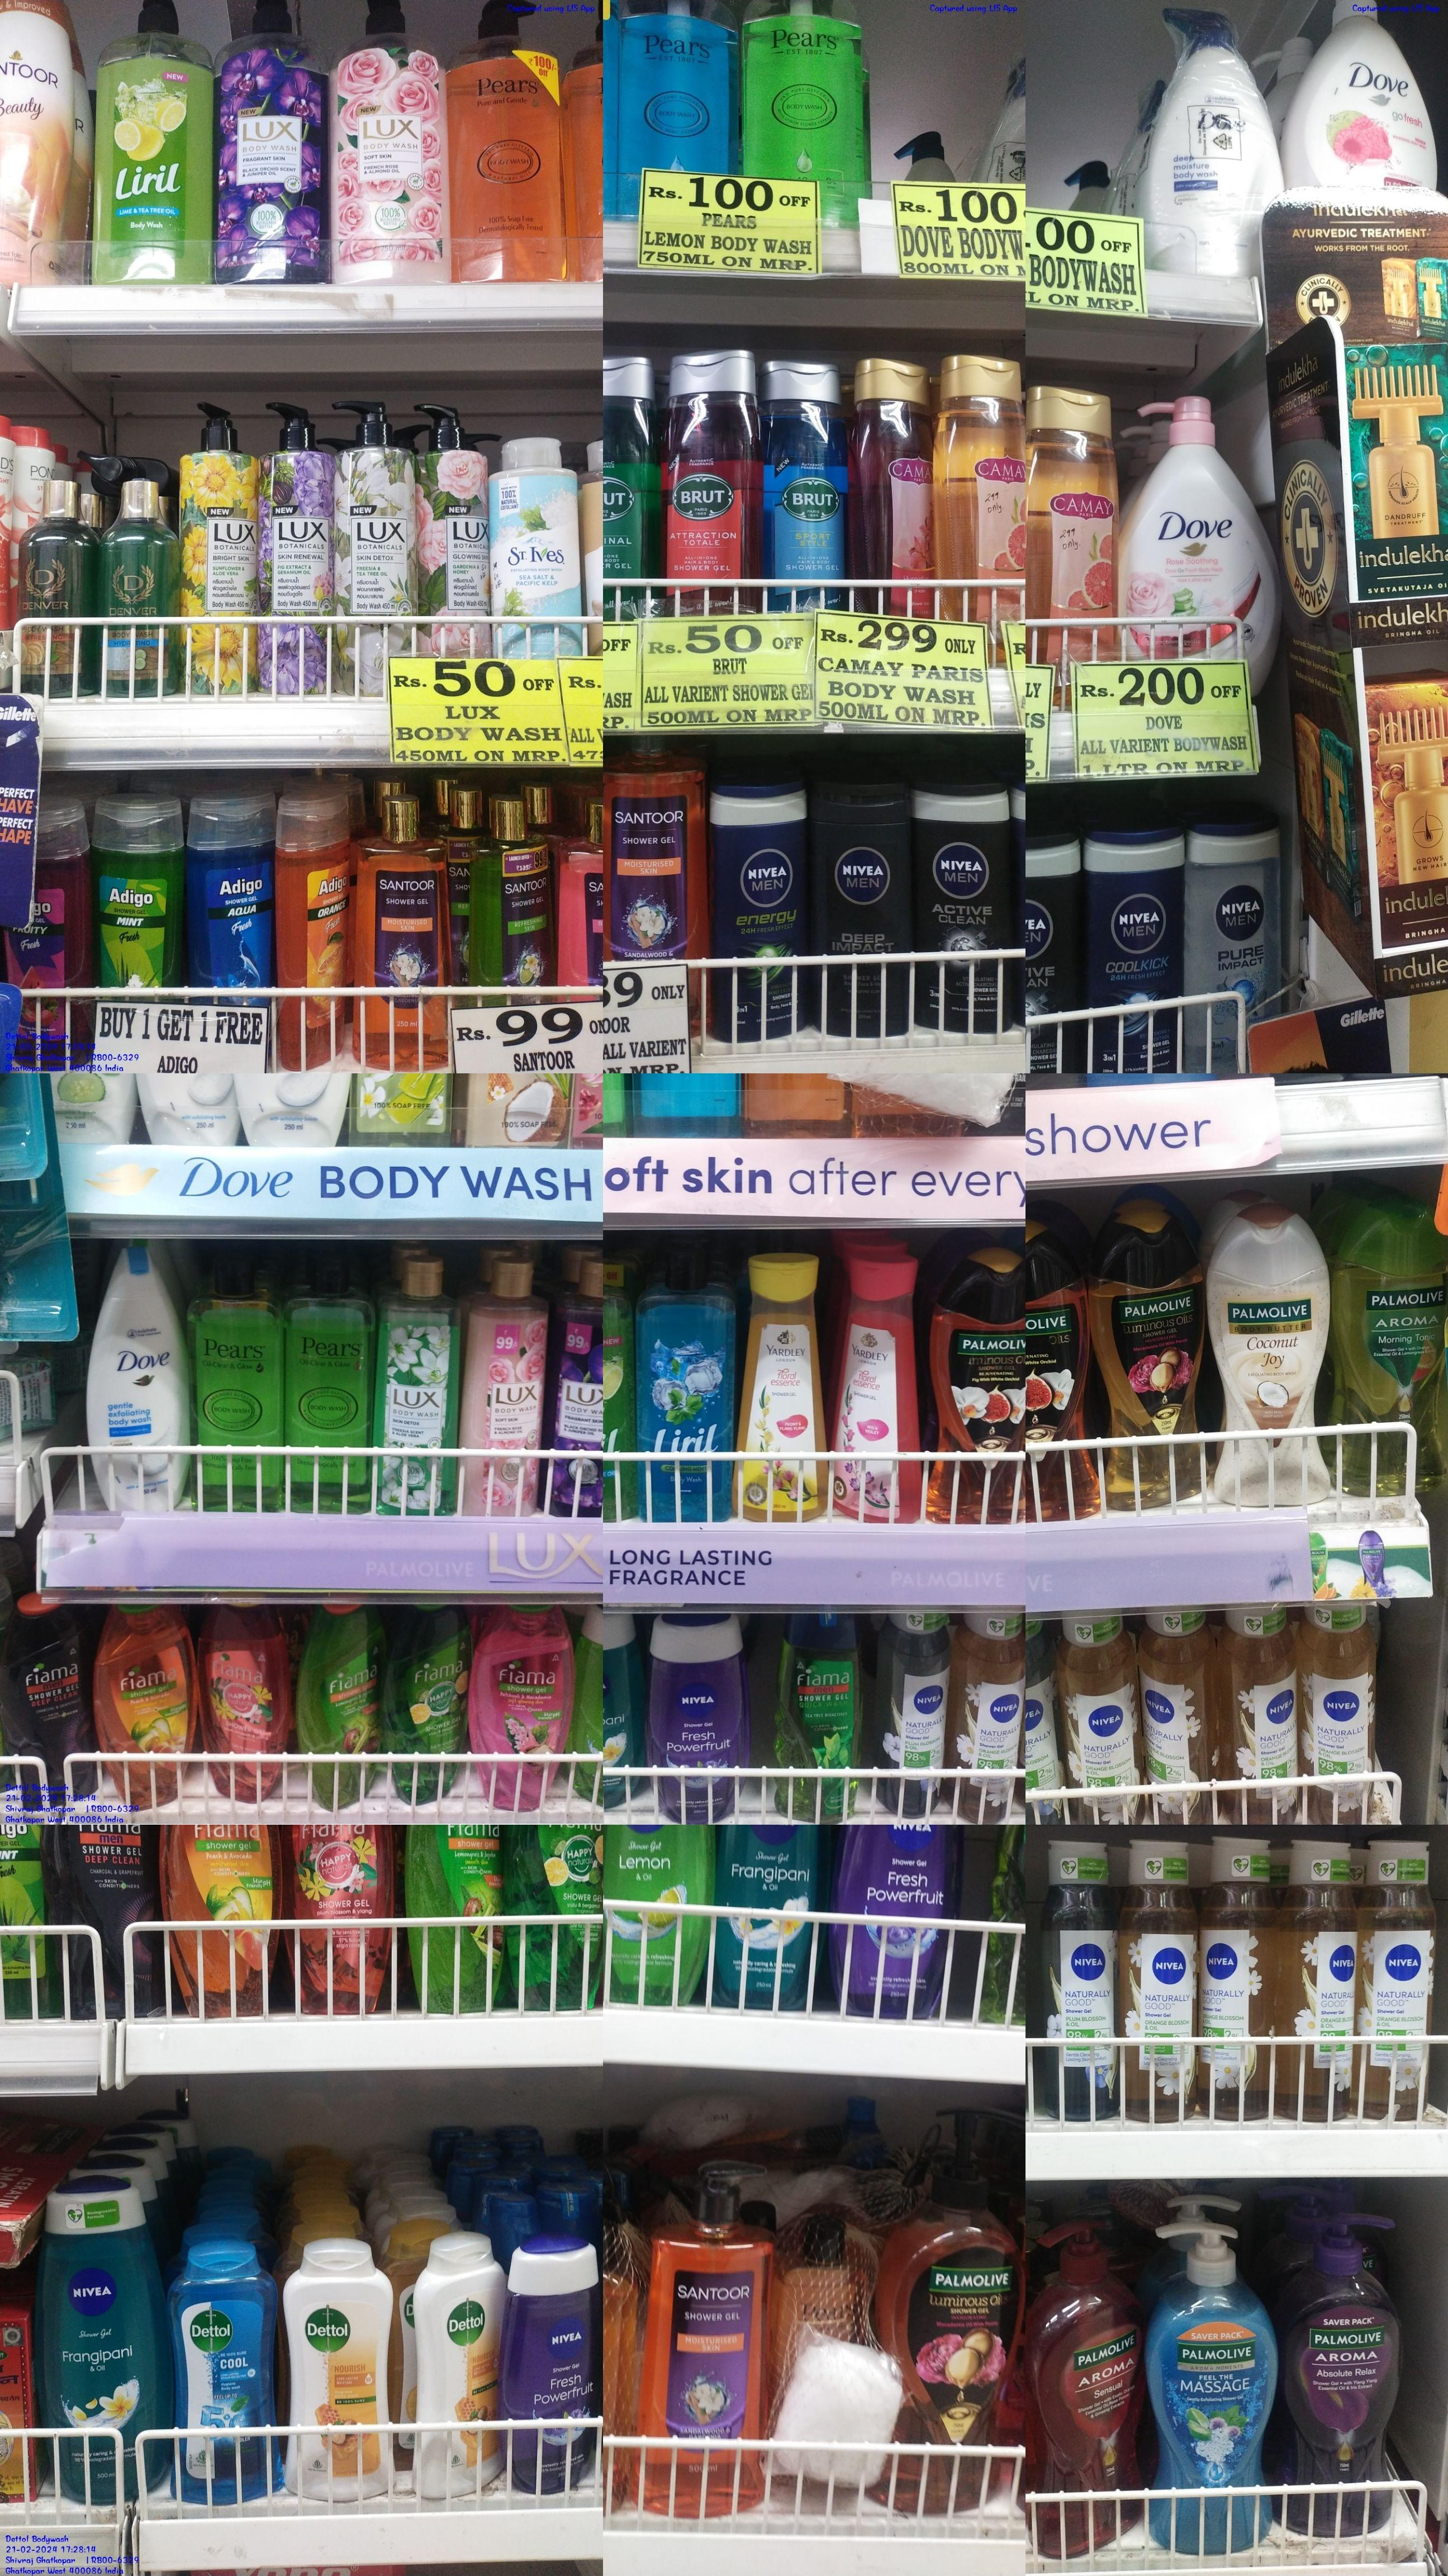Dettol_Bodywash_Cool: (168, 2240, 285, 2509)
Dettol_Nourish_Body_Wash_250ML: (281, 2236, 396, 2503), (407, 2227, 499, 2503)
Dove_Gentle_Exfoliating_Body_Wash_250ML: (85, 1244, 191, 1511)
Fiama_Shower_Gel_Lemongrass_and_Jojoba_250ML: (293, 1605, 378, 1808)
Fiama_Shower_Gel_Patchouli_and_Macadamia_250ML: (463, 1605, 575, 1812), (196, 1606, 290, 1805)
Fiama_Shower_Gel_Peach_and_Avocado_250ML: (90, 1603, 196, 1808)
Lux_Body_Wash_Skin_Detox_Freesia_Scent_and_Alove_Vera_245ML: (373, 1256, 463, 1516)
Nivea_Shower_Gel_Frangipani_and_Oil_250ML: (32, 2173, 171, 2503), (716, 1824, 831, 2013)
Nivea_Shower_Gel_Fresh_Powerfruit_250ML: (497, 2233, 599, 2498), (829, 1826, 965, 2013), (644, 1614, 750, 1824)
Nivea_Shower_Gel_Lemon_and_Oil_250ML: (605, 1824, 716, 2005)
Palmolive_Aroma_Morning_Tonic_Shower_Gel_250ML: (1333, 1196, 1448, 1500)
Palmolive_Coconut_Joy_Exfoliating_Body_Wash_250ML: (1208, 1201, 1331, 1509)
Palmolive_Luminous_Oils_Invigorating_Macadamia_Oil_With_Peony_250ML: (1086, 1201, 1208, 1516)
Pears_Pure_Glycerin_and_Lemon_Flower_Extracts_Body_Wash_250ML: (189, 1253, 285, 1513), (285, 1249, 375, 1513)
